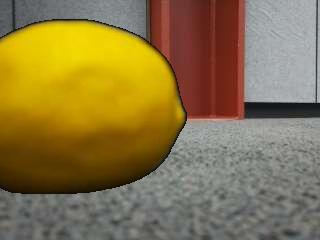lemon: (0, 19, 183, 194)
